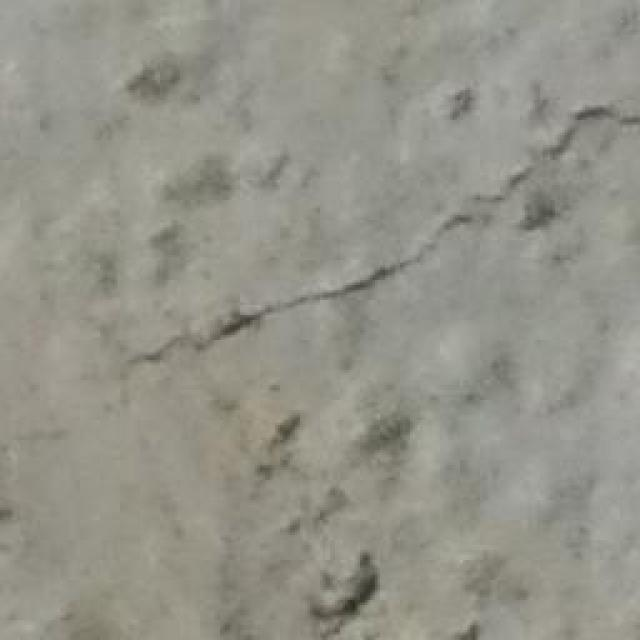Diagonal: (53, 92, 640, 360)
